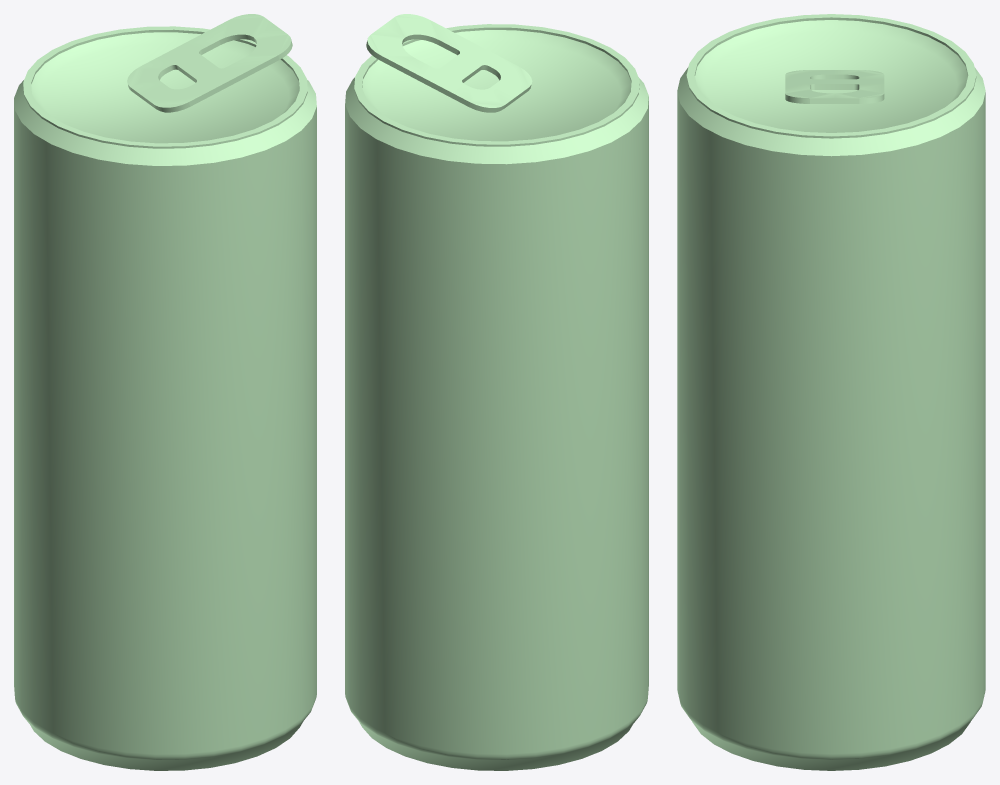
The model's file is Can.fbx.
3 renders of one model, left to right at view 1: azimuth 30°, elevation 25°; view 2: azimuth 150°, elevation 25°; view 3: azimuth 270°, elevation 25°, orthographic.
Visible parts, largest first — view 1: Cylinder.001; view 2: Cylinder.001; view 3: Cylinder.001.
Boxes of the visible parts, x1=… form: Cylinder.001: x1=14, y1=14, x2=316, y2=770; Cylinder.001: x1=345, y1=14, x2=648, y2=770; Cylinder.001: x1=677, y1=14, x2=985, y2=770.
Bounding box in the file's own units: 15.45 × 36.95 × 15.45.
